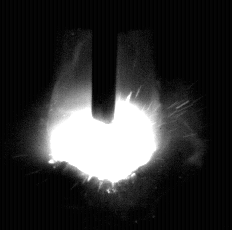arame: (92, 0, 117, 124)
poca: (46, 0, 162, 230)
